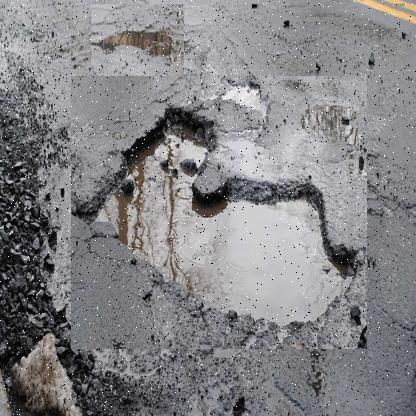pothole_water: (90, 4, 184, 77), (157, 58, 230, 142)
pothole_water_m: (70, 76, 367, 350)
